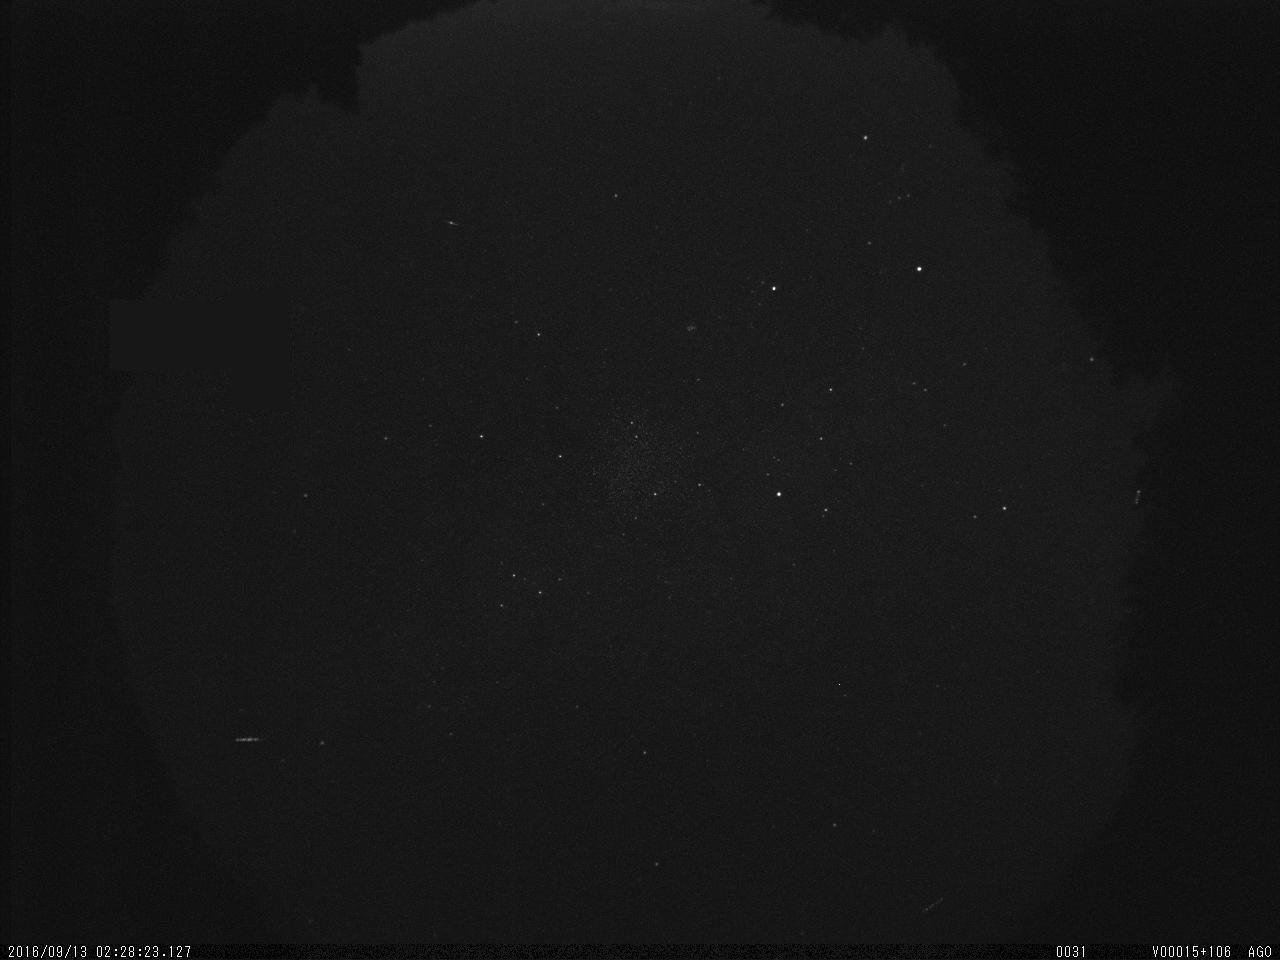meteor: (225, 723, 292, 757), (912, 882, 955, 924)
